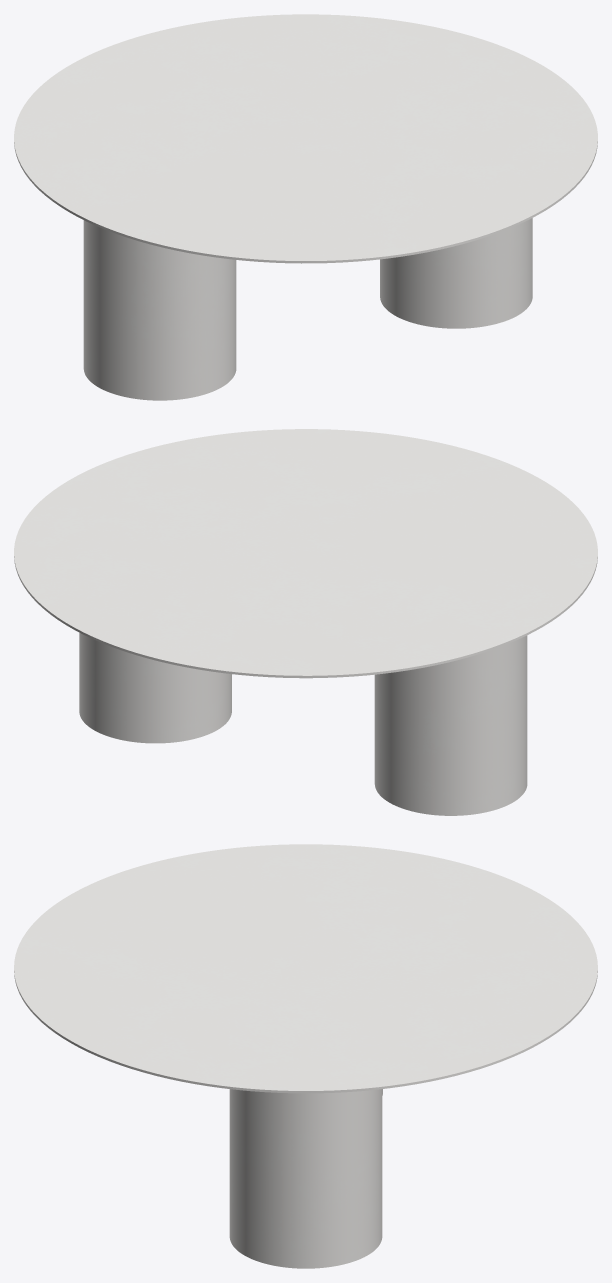
File: purewhite_round_facet_stream.glb
The picture shows the model from 3 angles, top to bottom: view 1: azimuth 30°, elevation 25°; view 2: azimuth 150°, elevation 25°; view 3: azimuth 270°, elevation 25°; orthographic projection.
Parts seen in each view (by area): view 1: facet_round, stream; view 2: facet_round, stream; view 3: facet_round, stream.
Boxes of the visible parts, bbox=[...] form: facet_round: bbox=[14, 14, 597, 263]; stream: bbox=[83, 218, 532, 400]; facet_round: bbox=[14, 429, 597, 678]; stream: bbox=[79, 632, 527, 815]; facet_round: bbox=[14, 844, 597, 1093]; stream: bbox=[229, 1089, 382, 1268].
Size of the model in its own units: 6.75 by 2.49 by 6.75.
1 material, 1 textured.
